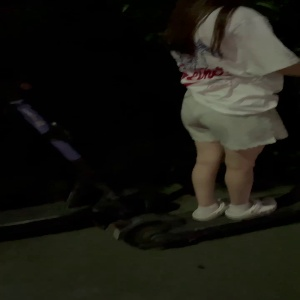human on a scooter: (108, 1, 300, 258)
